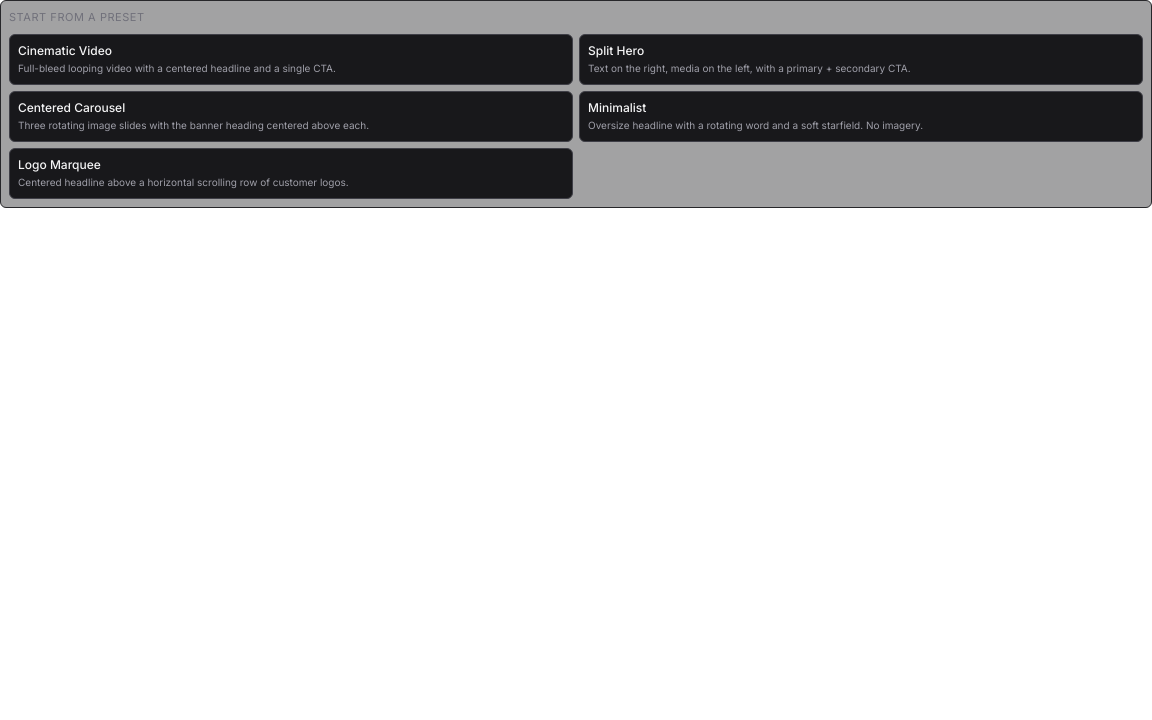
Test: <PresetPicker> — apply behavior › clicking a preset on a customized banner opens the confirmation dialog
The image size is (1152, 720).
Click the button with test id "hero-preset-cinematic-video": (291, 59) left=9, top=34, right=573, bottom=84
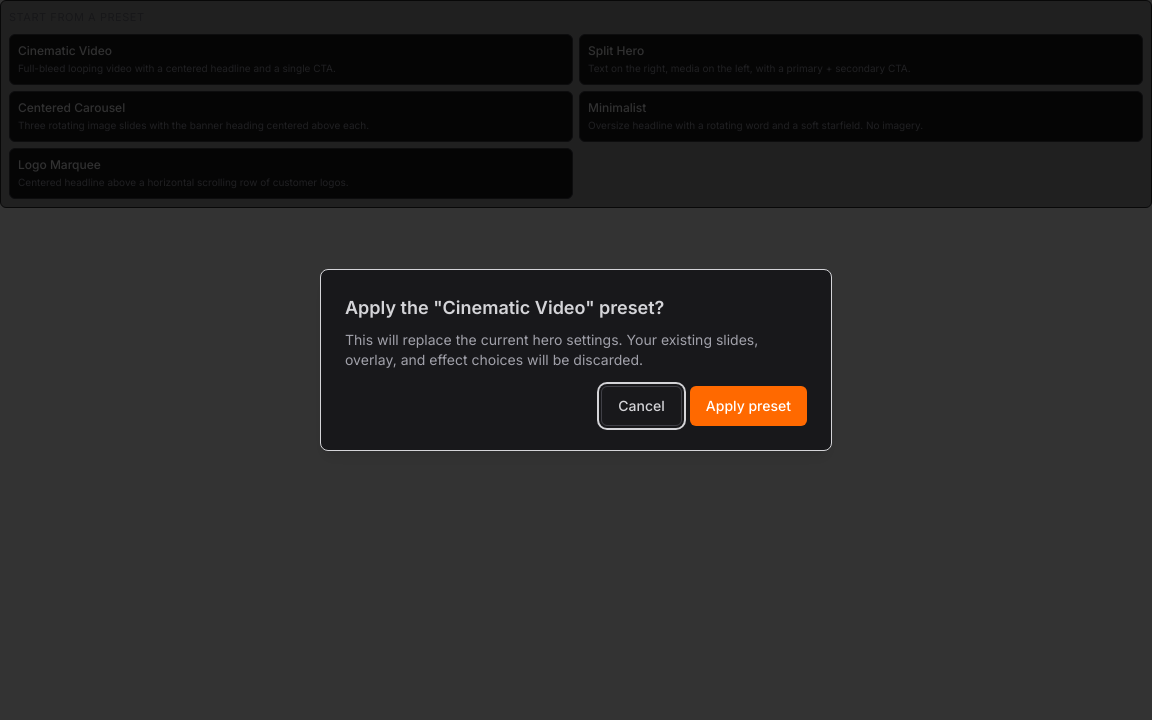
Expected: the dialog with test id "hero-preset-confirm" is shown, left=320, top=269, right=832, bottom=451
